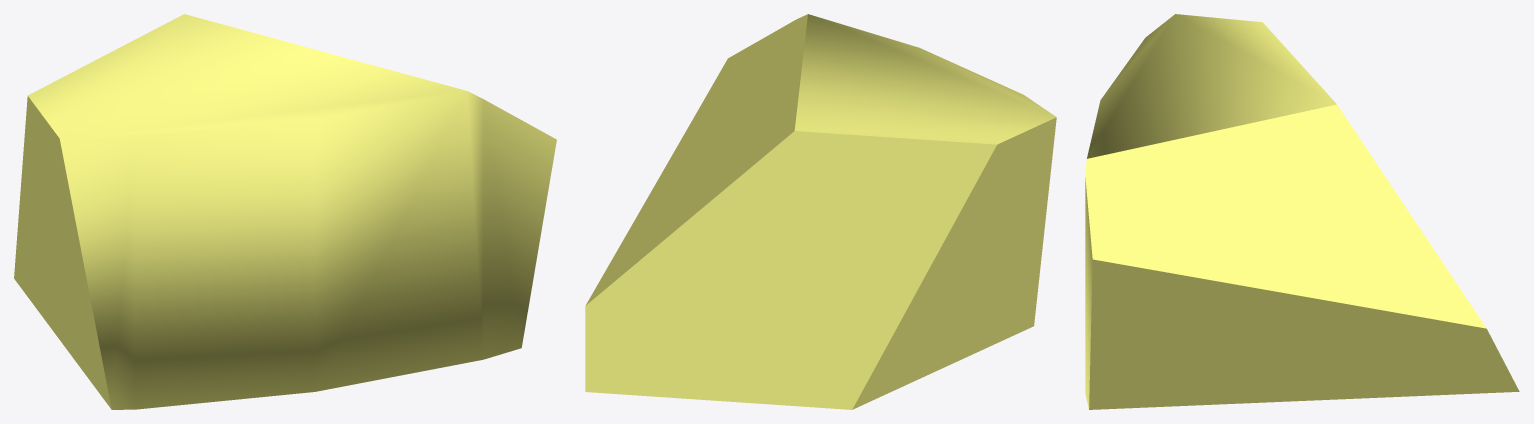
File: breakableCenter_cell_006.fbx
3 renders of one model, left to right at view 1: azimuth 30°, elevation 25°; view 2: azimuth 150°, elevation 25°; view 3: azimuth 270°, elevation 25°, orthographic. The views are drawn at different scales.
Visible parts, largest first — view 1: breakableCenter_cell.006; view 2: breakableCenter_cell.006; view 3: breakableCenter_cell.006.
Part boxes in pixels (x1,y1,x2,y2): breakableCenter_cell.006: (14, 14, 556, 409); breakableCenter_cell.006: (585, 14, 1056, 409); breakableCenter_cell.006: (1085, 14, 1519, 409).
Bounding box in the file's own units: 24.37 × 14.14 × 24.42.
